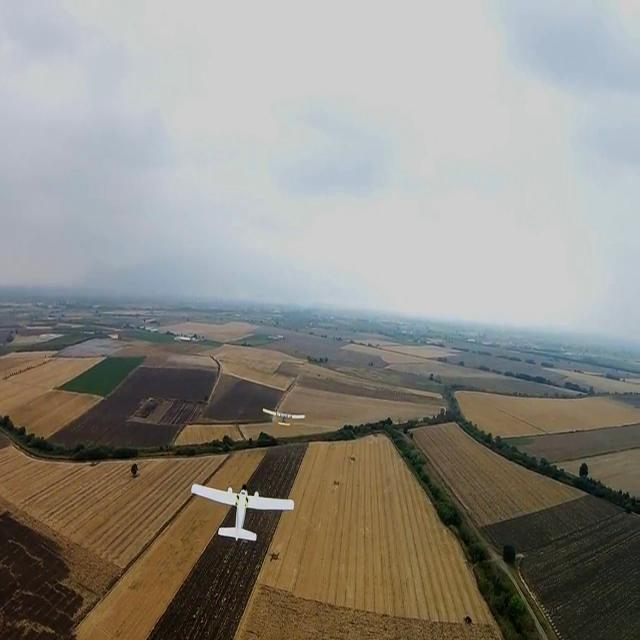iha: (262, 406, 307, 430), (209, 507, 265, 520)
